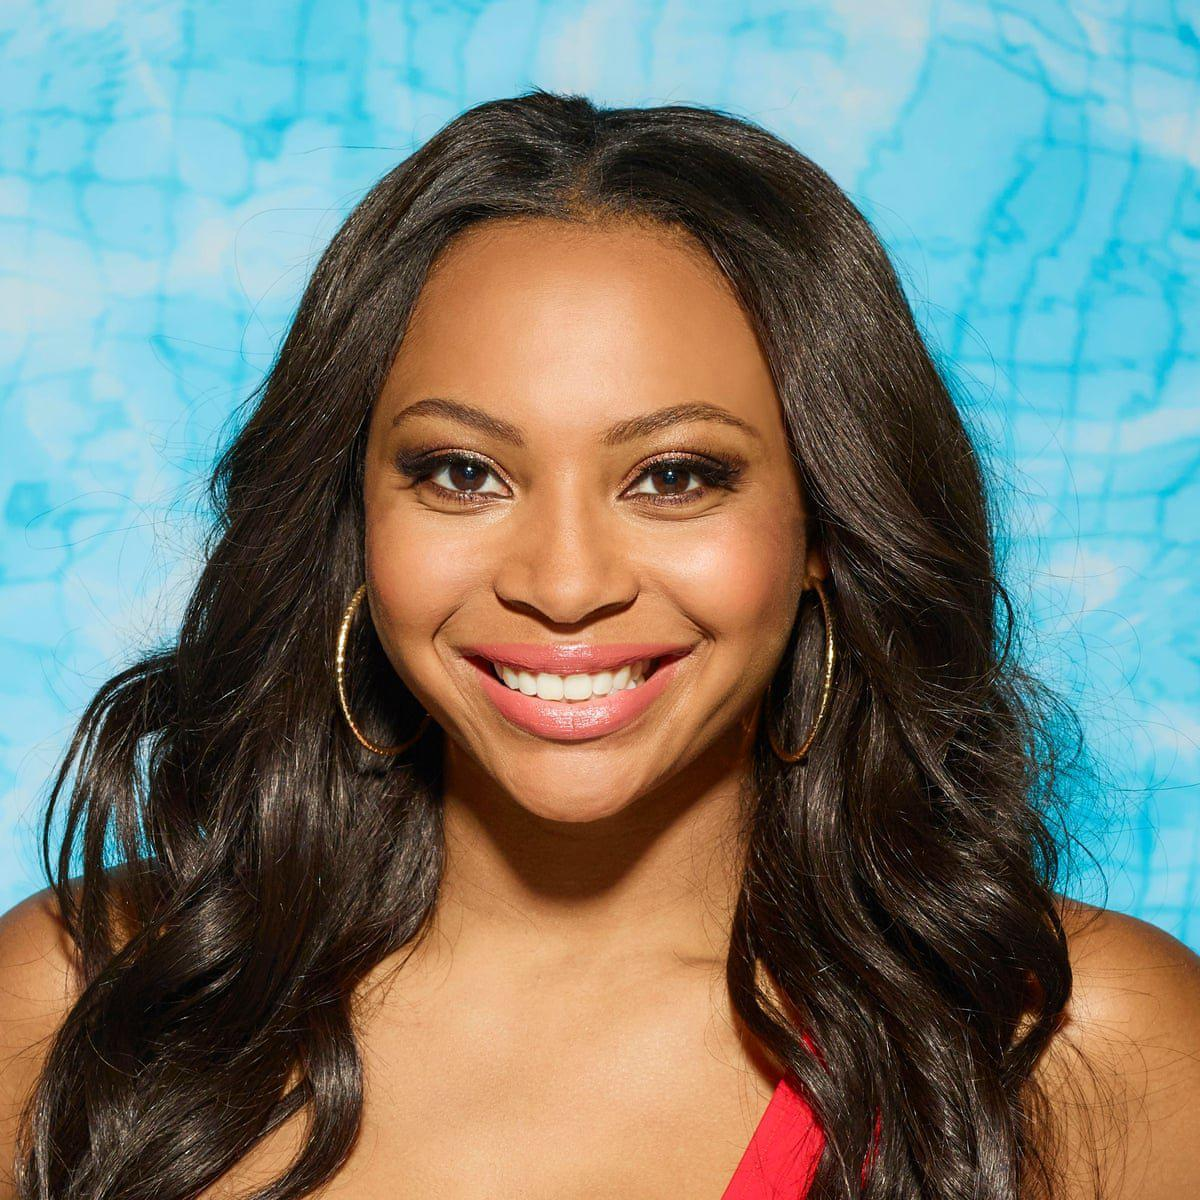Sober: (366, 256, 805, 827)
